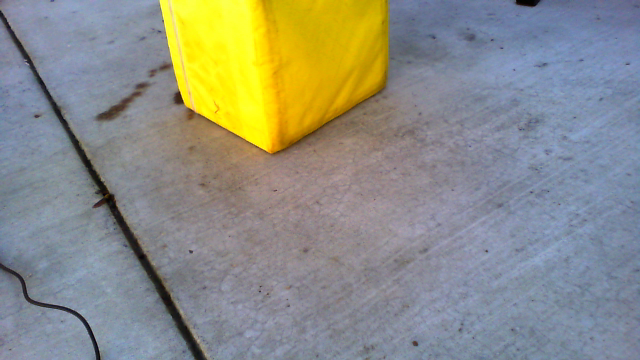cube: (159, 1, 390, 155)
